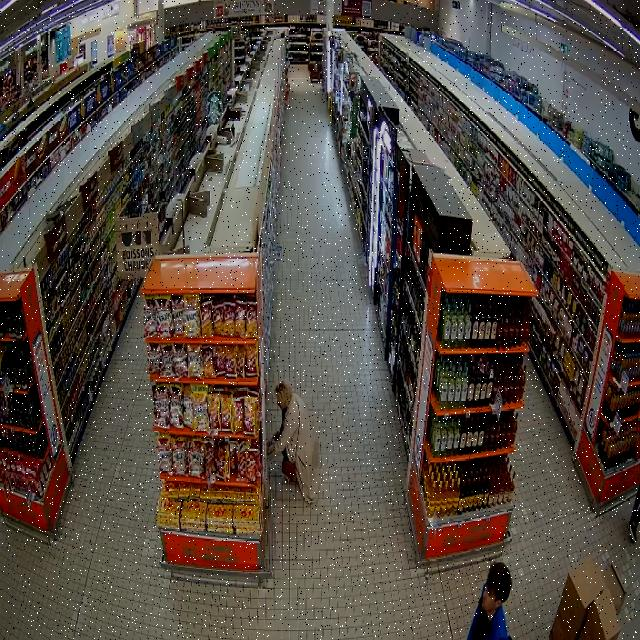bags: (282, 417, 300, 481)
person: (268, 382, 320, 504), (468, 563, 511, 639)
